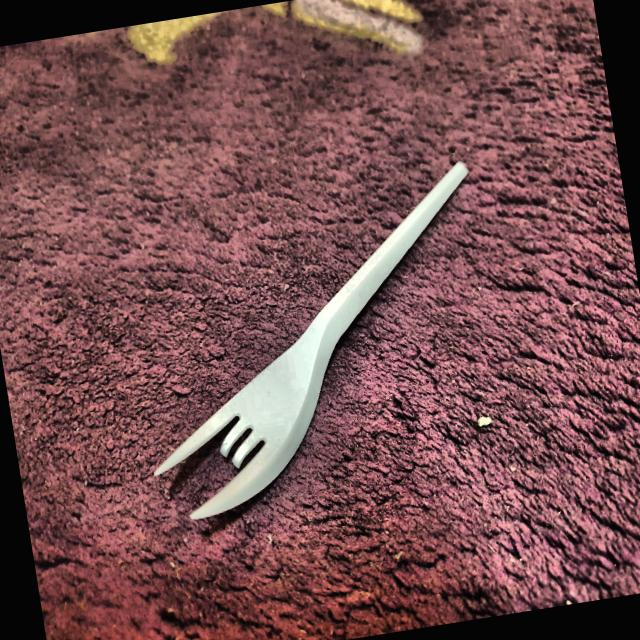plastic utensil: (106, 156, 516, 533)
